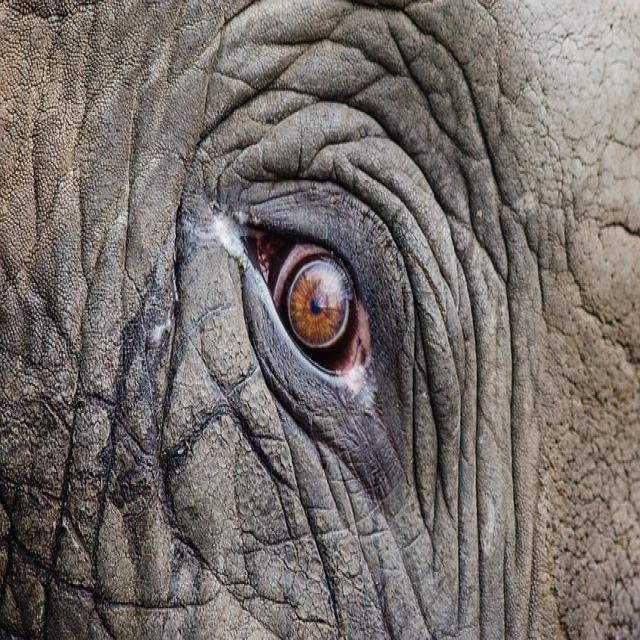elephant: (162, 4, 526, 637)
